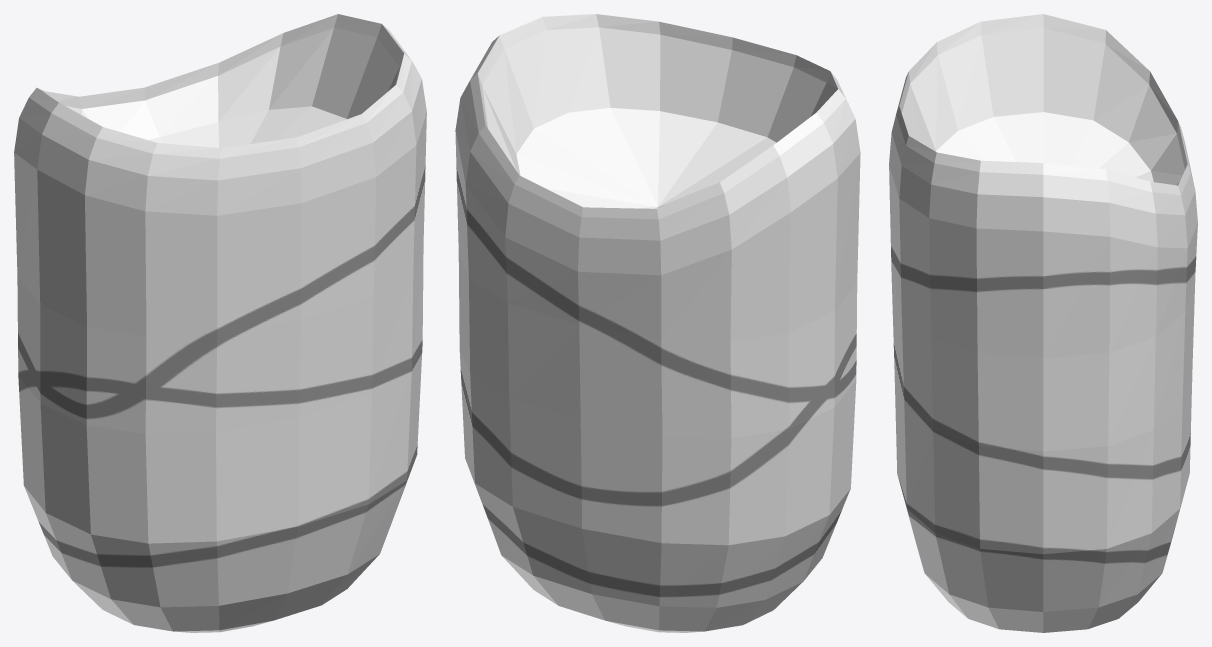
File: person_swaddle.obj
3 renders of one model, left to right at view 1: azimuth 30°, elevation 25°; view 2: azimuth 150°, elevation 25°; view 3: azimuth 270°, elevation 25°, orthographic. The views are drawn at different scales.
Visible parts, largest first — view 1: person_swaddle; view 2: person_swaddle; view 3: person_swaddle.
Part boxes in pixels (x1,y1,x2,y2): person_swaddle: [14, 14, 426, 632]; person_swaddle: [455, 14, 860, 632]; person_swaddle: [889, 14, 1197, 632].
Size of the model in its own units: 0.622 by 0.89 by 0.48.
